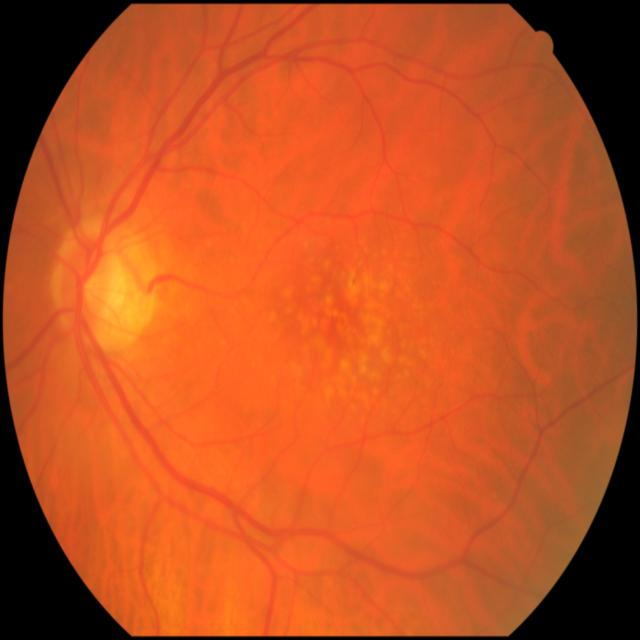OC: (82, 254, 128, 313)
OD: (53, 218, 153, 352)
